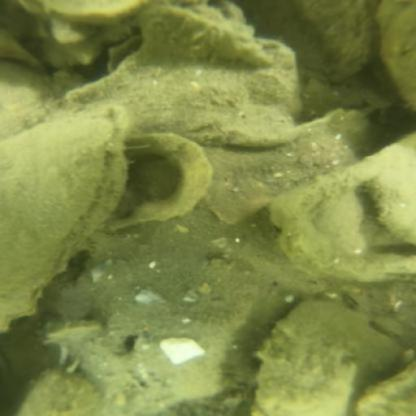Oyster- Indeterminate: (3, 115, 126, 325)
Oyster-Closed: (50, 253, 267, 414), (54, 41, 296, 146), (204, 107, 372, 218), (256, 301, 399, 411), (136, 2, 266, 62), (288, 0, 374, 86), (133, 322, 233, 394), (365, 151, 416, 245), (3, 61, 50, 137), (23, 367, 100, 409), (357, 362, 415, 411)
